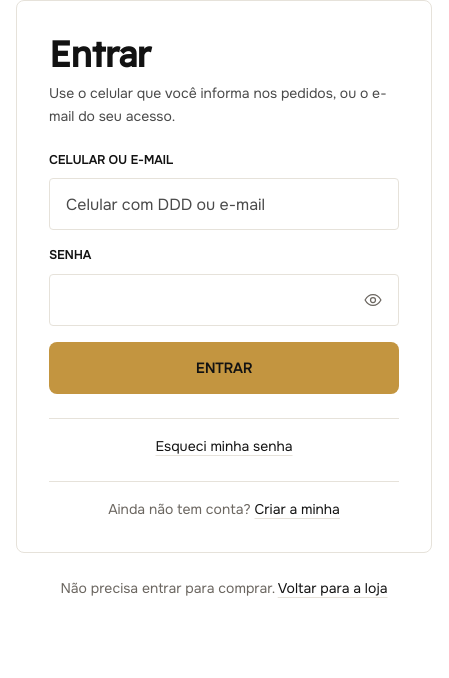
errar o e-mail não rende conselho sobre DDD
Type "dona@maisonessence.test" into the field labelled "Celular ou e-mail" at x=224, y=204, box [49,178,399,230]
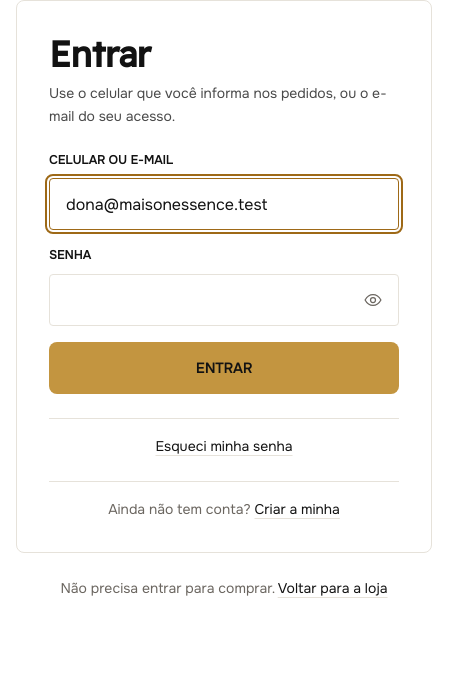
Type "errada" into the password field labelled "Senha" at x=224, y=300, box [49,274,399,326]
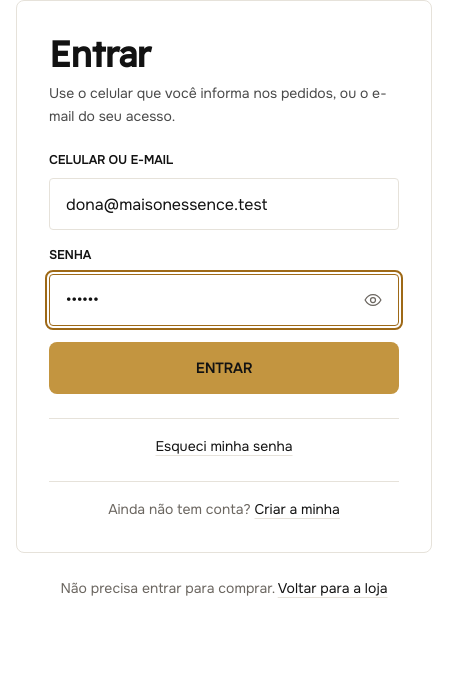
Click the button named "Entrar" at x=224, y=368, box [49,342,399,394]
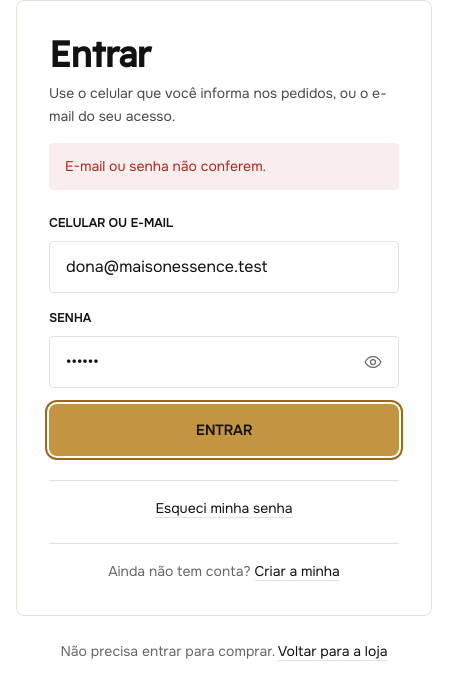
Now the message reads "E-mail ou senha não conferem.", box [65,157,266,175]
